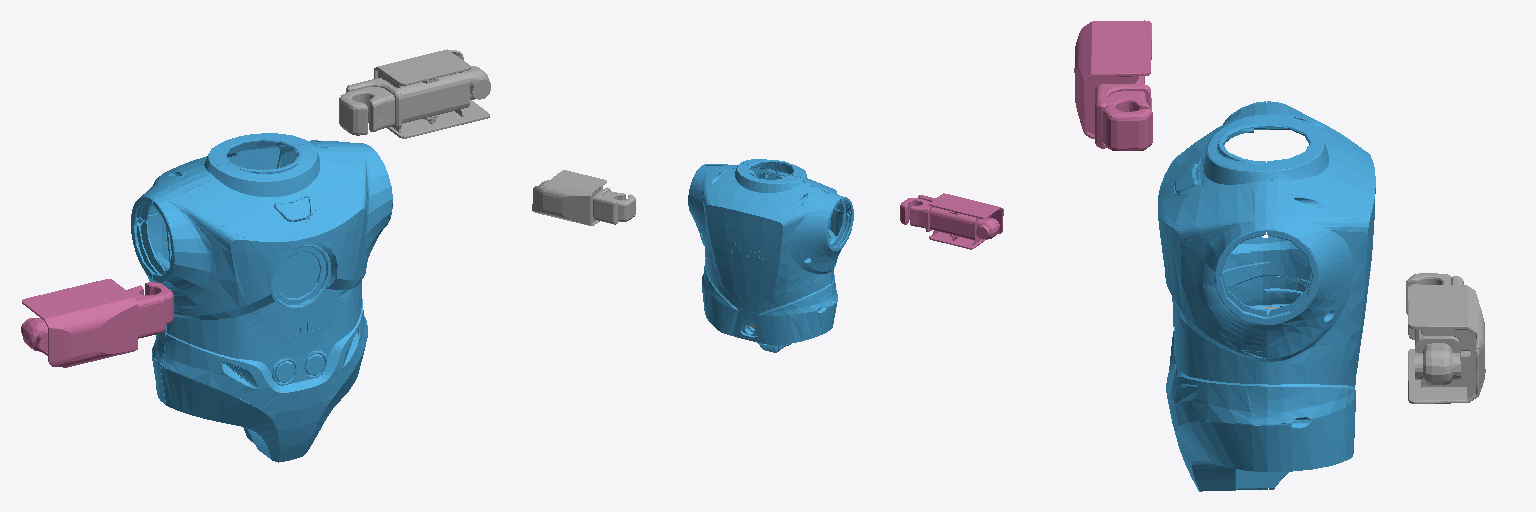
robot.urdf — H6_robot:
<?xml version="1.0" ?>
<robot name="H6_robot">
  <link name="base_link"/>

  <joint name="base_link_fixedjoint" type="fixed">
    <parent link="base_link"/>
    <child link="torso"/>
    <origin rpy="1.5757 0 0" xyz="0 0 0.35"/>
    <axis xyz="0 0 0"/>
  </joint>

  <link name="torso">
    <visual>
      <geometry>
        <mesh filename="meshes/Torso_0.10.stl" scale="0.1 0.1 0.1"/>
      </geometry>
      <origin rpy="0 0 0" xyz="0 0 0"/>
    </visual>
    <collision>
      <geometry>
        <mesh filename="meshes/Torso_0.10.stl" scale="0.1 0.1 0.1"/>
      </geometry>
      <origin rpy="0 0 0" xyz="0 0 0"/>
    </collision>
  </link>

  <joint name="neck_to_torso" type="revolute">
    <parent link="torso"/>
    <child link="neck"/>
    <origin rpy="0 0 0" xyz="0.0 0.045 0.006"/>
    <axis xyz="0 1.0 0"/> 
    <limit effort="1.329" lower="-1.5757" upper="1.5757" velocity="8.26797"/>
  </joint>

  <link name="neck">
     <visual>
      <geometry>
        <mesh filename="meshes/Neck_0.10.stl" scale="0.1 0.1 0.1"/>
      </geometry>
      <origin rpy="0 0 0" xyz="0 -0.045 -0.006"/>
    </visual>
    <collision>
      <geometry>
        <mesh filename="meshes/Neck_0.10.stl" scale="0.1 0.1 0.1"/>
      </geometry>
      <origin rpy="0 0 0" xyz="0 -0.045 -0.006"/>
    </collision>
  </link>

  <joint name="head_to_neck" type="revolute">
    <parent link="neck"/>
    <child link="head"/>
    <origin rpy="0 0 -3.1415" xyz="0.0 -0.0 0.0"/>
    <axis xyz="1.0 0 0"/>
    <limit effort="1.329" lower="-0.2626" upper="0.5252" velocity="8.26797"/>
  </joint>

  <link name="head">
     <visual>
      <geometry>
        <mesh filename="meshes/Head_0.10.stl" scale="0.1 0.1 0.1"/>
      </geometry>
      <origin rpy="0 0 0" xyz="0 -0.055 -0.01"/>
    </visual>
    <collision>
      <geometry>
        <mesh filename="meshes/Head_0.10.stl" scale="0.1 0.1 0.1"/>
      </geometry>
      <origin rpy="0 0 0" xyz="0 -0.055 -0.01"/>
    </collision>
  </link>
  
   <joint name="LShoulderPitch" type="revolute">
    <parent link="torso"/>
    <child link="LShoulder"/>
    <origin rpy="0 0 0" xyz="0.05 0.0 0.006"/>
    <axis xyz="1.0 0 0"/>
    <limit effort="1.329" lower="-3.1415" upper="1.0471" velocity="8.26797"/>
  </joint>

  <link name="LShoulder">
     <visual>
      <geometry>
        <mesh filename="meshes/LShoulderPitch_0.10.stl" scale="0.1 0.1 0.1"/>
      </geometry>
      <origin rpy="0 0 0" xyz="-0.05 0 -0.006"/>
    </visual>
    <collision>
      <geometry>
        <mesh filename="meshes/LShoulderPitch_0.10.stl" scale="0.1 0.1 0.1"/>
      </geometry>
      <origin rpy="0 0 0" xyz="-0.05 0 -0.006"/>
    </collision>
  </link>

  <joint name="LShoulderRoll" type="revolute">
    <parent link="LShoulder"/>
    <child link="LBicep"/>
    <origin rpy="0 0 0" xyz="0.04 0.0 0.0"/>
    <axis xyz="0 0 1.0"/>
    <limit effort="1.329" lower="-1.5757" upper="1.5757" velocity="8.26797"/>
  </joint>

  <link name="LBicep">
     <visual>
      <geometry>
        <mesh filename="meshes/LShoulderRoll_0.10.stl" scale="0.1 0.1 0.1"/>
      </geometry>
      <origin rpy="0 0 0" xyz="-0.09 0 -0.006"/>
    </visual>
    <collision>
      <geometry>
        <mesh filename="meshes/LShoulderRoll_0.10.stl" scale="0.1 0.1 0.1"/>
      </geometry>
      <origin rpy="0 0 0" xyz="-0.09 0 -0.006"/>
    </collision>
  </link>

  <joint name="LElbowYaw" type="revolute">
    <parent link="LBicep"/>
    <child link="LElbow"/>
    <origin rpy="0 -1.5757 0" xyz="0.075 0.0 0.0"/>
    <axis xyz="0 1.0 0"/>
    <limit effort="1.329" lower="-1.5757" upper="1.5757" velocity="8.26797"/>
  </joint>

  <link name="LElbow">
     <visual>
      <geometry>
        <mesh filename="meshes/LElbow_0.10.stl" scale="0.1 0.1 0.1"/>
      </geometry>
      <origin rpy="0 0 0" xyz="-0.0125 0.0 0.135"/>
    </visual>
    <collision>
      <geometry>
        <mesh filename="meshes/LElbow_0.10.stl" scale="0.1 0.1 0.1"/>
      </geometry>
      <origin rpy="0 0 0" xyz="-0.0125 0.0 0.135"/>
    </collision>
  </link>

  <joint name="LHipYaw" type="revolute">
    <parent link="torso"/>
    <child link="LHipYaw"/>
    <origin rpy="-1.5757 0.0 3.14159" xyz="0.035 -0.035 0.0"/>
    <axis xyz="0 0 1.0"/>
    <limit effort="1.329" lower="-1.5757" upper="1.5757" velocity="8.26797"/>
  </joint>

  <link name="LHipYaw">
     <visual>
      <geometry>
        <mesh filename="meshes/LHipYaw_0.10.stl" scale="0.1 0.1 0.1"/>
      </geometry>
      <origin rpy="0 0 0" xyz="0.0 0.0 0.0"/>
    </visual>
    <collision>
      <geometry>
        <mesh filename="meshes/LHipYaw_0.10.stl" scale="0.1 0.1 0.1"/>
      </geometry>
      <origin rpy="0 0 0" xyz="0.0 0.0 0.0"/>
    </collision>
  </link>
 
  <joint name="LHipRoll" type="revolute">
    <parent link="LHipYaw"/>
    <child link="LHipRoll"/>
    <origin rpy="1.5757 3.14159 0.0" xyz="0.0 0.0 0.09"/>
    <axis xyz="0 0 1.0"/>
    <limit effort="1.329" lower="-0.45" upper="1.5757" velocity="8.26797"/>
  </joint>

  <link name="LHipRoll">
     <visual>
      <geometry>
        <mesh filename="meshes/LHipRoll_0.10.stl" scale="0.1 0.1 0.1"/>
      </geometry>
      <origin rpy="0 0 0" xyz="-0.036 0.1255 0.0"/>
    </visual>
    <collision>
      <geometry>
        <mesh filename="meshes/LHipRoll_0.10.stl" scale="0.1 0.1 0.1"/>
      </geometry>
      <origin rpy="0 0 0" xyz="-0.036 0.1255 0.0"/>
    </collision>
  </link>

  <joint name="LHipPitch" type="revolute">
    <parent link="LHipRoll"/>
    <child link="LHipPitch"/>
    <origin rpy="0.0 0.0 0.0" xyz="0.0 -0.044 0.0"/>
    <axis xyz="1.0 0 0"/>
    <limit effort="1.329" lower="-1.5757" upper="1.5757" velocity="8.26797"/>
  </joint>

  <link name="LHipPitch">
     <visual>
      <geometry>
        <mesh filename="meshes/LHipPitch_0.10.stl" scale="0.1 0.1 0.1"/>
      </geometry>
      <origin rpy="0 0 0" xyz="-0.035 0.168 0.0"/>
    </visual>
    <collision>
      <geometry>
        <mesh filename="meshes/LHipPitch_0.10.stl" scale="0.1 0.1 0.1"/>
      </geometry>
      <origin rpy="0 0 0" xyz="-0.035 0.168 0.0"/>
    </collision>
  </link>

  <joint name="LKnee" type="revolute">
    <parent link="LHipPitch"/>
    <child link="LKnee"/>
    <origin rpy="0.0 0.0 0.0" xyz="0.0 -0.06 0.0"/>
    <axis xyz="1.0 0 0"/>
    <limit effort="1.329" lower="0.0" upper="1.5757" velocity="8.26797"/>
  </joint>

  <link name="LKnee">
     <visual>
      <geometry>
        <mesh filename="meshes/LKnee_0.10.stl" scale="0.1 0.1 0.1"/>
      </geometry>
      <origin rpy="0 0 0" xyz="-0.035 0.228 0.0"/>
    </visual>
    <collision>
      <geometry>
        <mesh filename="meshes/LKnee_0.10.stl" scale="0.1 0.1 0.1"/>
      </geometry>
      <origin rpy="0 0 0" xyz="-0.035 0.228 0.0"/>
    </collision>
  </link>


  <joint name="LAnklePitch" type="revolute">
    <parent link="LKnee"/>
    <child link="LAnklePitch"/>
    <origin rpy="0.0 0.0 0.0" xyz="0.0 -0.065 -0.008"/>
    <axis xyz="1.0 0 0"/>
    <limit effort="1.329" lower="-1.0" upper="1.0" velocity="8.26797"/>
  </joint>

  <link name="LAnklePitch">
     <visual>
      <geometry>
        <mesh filename="meshes/LAnklePitch_0.10.stl" scale="0.1 0.1 0.1"/>
      </geometry>
      <origin rpy="1.5757 0 1.5757" xyz="0.0 -0.014 0.0"/>
    </visual>
    <collision>
      <geometry>
        <mesh filename="meshes/LAnklePitch_0.10.stl" scale="0.1 0.1 0.1"/>
      </geometry>
      <origin rpy="1.5757 0 1.5757" xyz="0.0 -0.014 0.0"/>
    </collision>
  </link>
 
  <joint name="LAnkleRoll" type="revolute">
    <parent link="LAnklePitch"/>
    <child link="LAnkleRoll"/>
    <origin rpy="0.0 0.0 0.0" xyz="0.0 -0.035 0.0"/>
    <axis xyz="0 0 1.0"/>
    <limit effort="1.329" lower="-0.85" upper="0.45" velocity="8.26797"/>
  </joint>

  <link name="LAnkleRoll">
     <visual>
      <geometry>
        <mesh filename="meshes/LAnkleRoll_0.10.stl" scale="0.1 0.1 0.1"/>
      </geometry>
      <origin rpy="0.0 0 0.0" xyz="-0.035 0.33 0.008"/>
    </visual>
    <collision>
      <geometry>
        <mesh filename="meshes/LAnkleRoll_0.10.stl" scale="0.1 0.1 0.1"/>
      </geometry>
      <origin rpy="0 0 0" xyz="-0.035 0.33 0.008"/>
    </collision>
  </link>


  <joint name="RShoulderPitch" type="revolute">
    <parent link="torso"/>
    <child link="RShoulder"/>
    <origin rpy="0 0 0" xyz="-0.05 0.0 0.006"/>
    <axis xyz="1.0 0 0"/>
    <limit effort="1.329" lower="-3.1415" upper="1.0471" velocity="8.26797"/>
  </joint>

  <link name="RShoulder">
     <visual>
      <geometry>
        <mesh filename="meshes/RShoulderPitch_0.10.stl" scale="0.1 0.1 0.1"/>
      </geometry>
      <origin rpy="0 0 0" xyz="0.05 0 -0.006"/>
    </visual>
    <collision>
      <geometry>
        <mesh filename="meshes/RShoulderPitch_0.10.stl" scale="0.1 0.1 0.1"/>
      </geometry>
      <origin rpy="0 0 0" xyz="0.05 0 -0.006"/>
    </collision>
  </link>

  <joint name="RShoulderRoll" type="revolute">
    <parent link="RShoulder"/>
    <child link="RBicep"/>
    <origin rpy="0 0 0" xyz="-0.04 0.0 0.0"/>
    <axis xyz="0 0 1.0"/>
    <limit effort="1.329" lower="-1.5757" upper="1.5757" velocity="8.26797"/>
  </joint>

  <link name="RBicep">
     <visual>
      <geometry>
        <mesh filename="meshes/RShoulderRoll_0.10.stl" scale="0.1 0.1 0.1"/>
      </geometry>
      <origin rpy="0 0 0" xyz="0.09 0 -0.006"/>
    </visual>
    <collision>
      <geometry>
        <mesh filename="meshes/RShoulderRoll_0.10.stl" scale="0.1 0.1 0.1"/>
      </geometry>
      <origin rpy="0 0 0" xyz="0.09 0 -0.006"/>
    </collision>
  </link>

 <joint name="RElbowYaw" type="revolute">
    <parent link="RBicep"/>
    <child link="RElbow"/>
    <origin rpy="0 -1.575 3.14159" xyz="-0.075 0.0 0.0"/>
    <axis xyz="0 1.0 0"/>
    <limit effort="1.329" lower="-1.5757" upper="1.5757" velocity="8.26797"/>
  </joint>

  <link name="RElbow">
     <visual>
      <geometry>
        <mesh filename="meshes/RElbow_0.10.stl" scale="0.1 0.1 0.1"/>
      </geometry>
      <origin rpy="0 0 0" xyz="-0.0125 0.0 0.135"/>
    </visual>
    <collision>
      <geometry>
        <mesh filename="meshes/RElbow_0.10.stl" scale="0.1 0.1 0.1"/>
      </geometry>
      <origin rpy="0 0 0" xyz="-0.0125 0.0 0.135"/>
    </collision>
  </link> 

  <joint name="RHipYaw" type="revolute">
    <parent link="torso"/>
    <child link="RHipYaw"/>
    <origin rpy="-1.5757 0.0 3.14159" xyz="-0.035 -0.035 0.0"/>
    <axis xyz="0 0 1.0"/>
    <limit effort="1.329" lower="-1.5757" upper="1.5757" velocity="8.26797"/>
  </joint>

  <link name="RHipYaw">
     <visual>
      <geometry>
        <mesh filename="meshes/RHipYaw_0.10.stl" scale="0.1 0.1 0.1"/>
      </geometry>
      <origin rpy="0 0 0" xyz="0.0 0.0 0.0"/>
    </visual>
    <collision>
      <geometry>
        <mesh filename="meshes/RHipYaw_0.10.stl" scale="0.1 0.1 0.1"/>
      </geometry>
      <origin rpy="0 0 0" xyz="0.0 0.0 0.0"/>
    </collision>
  </link>

  <joint name="RHipRoll" type="revolute">
    <parent link="RHipYaw"/>
    <child link="RHipRoll"/>
    <origin rpy="1.5757 3.14159 0.0" xyz="0.0 0.0 0.09"/>
    <axis xyz="0 0 1.0"/>
    <limit effort="1.329" lower="-1.5757" upper="0.45" velocity="8.26797"/>
  </joint>

  <link name="RHipRoll">
     <visual>
      <geometry>
        <mesh filename="meshes/RHipRoll_0.10.stl" scale="0.1 0.1 0.1"/>
      </geometry>
      <origin rpy="0 0 0" xyz="0.036 0.1255 0.0"/>
    </visual>
    <collision>
      <geometry>
        <mesh filename="meshes/RHipRoll_0.10.stl" scale="0.1 0.1 0.1"/>
      </geometry>
      <origin rpy="0 0 0" xyz="-0.036 0.1255 0.0"/>
    </collision>
  </link>
 
  <joint name="RHipPitch" type="revolute">
    <parent link="RHipRoll"/>
    <child link="RHipPitch"/>
    <origin rpy="0.0 0.0 0.0" xyz="0.0 -0.044 0.0"/>
    <axis xyz="1.0 0 0"/>
    <limit effort="1.329" lower="-1.5757" upper="1.5757" velocity="8.26797"/>
  </joint>

  <link name="RHipPitch">
     <visual>
      <geometry>
        <mesh filename="meshes/RHipPitch_0.10.stl" scale="0.1 0.1 0.1"/>
      </geometry>
      <origin rpy="0 0 0" xyz="0.035 0.168 0.0"/>
    </visual>
    <collision>
      <geometry>
        <mesh filename="meshes/RHipPitch_0.10.stl" scale="0.1 0.1 0.1"/>
      </geometry>
      <origin rpy="0 0 0" xyz="0.035 0.168 0.0"/>
    </collision>
  </link>

  <joint name="RKnee" type="revolute">
    <parent link="RHipPitch"/>
    <child link="RKnee"/>
    <origin rpy="0.0 0.0 0.0" xyz="0.0 -0.06 0.0"/>
    <axis xyz="1.0 0 0"/>
    <limit effort="1.329" lower="0.0" upper="1.5757" velocity="8.26797"/>
  </joint>

  <link name="RKnee">
     <visual>
      <geometry>
        <mesh filename="meshes/RKnee_0.10.stl" scale="0.1 0.1 0.1"/>
      </geometry>
      <origin rpy="0 0 0" xyz="0.035 0.228 0.0"/>
    </visual>
    <collision>
      <geometry>
        <mesh filename="meshes/RKnee_0.10.stl" scale="0.1 0.1 0.1"/>
      </geometry>
      <origin rpy="0 0 0" xyz="0.035 0.228 0.0"/>
    </collision>
  </link>

  <joint name="RAnklePitch" type="revolute">
    <parent link="RKnee"/>
    <child link="RAnklePitch"/>
    <origin rpy="0.0 0.0 0.0" xyz="0.0 -0.065 -0.008"/>
    <axis xyz="1.0 0 0"/>
    <limit effort="1.329" lower="-1.0" upper="1.0" velocity="8.26797"/>
  </joint>

  <link name="RAnklePitch">
     <visual>
      <geometry>
        <mesh filename="meshes/RAnklePitch_0.10.stl" scale="0.1 0.1 0.1"/>
      </geometry>
      <origin rpy="1.5757 0 1.5757" xyz="0.0 -0.014 0.0"/>
    </visual>
    <collision>
      <geometry>
        <mesh filename="meshes/RAnklePitch_0.10.stl" scale="0.1 0.1 0.1"/>
      </geometry>
      <origin rpy="1.5757 0 1.5757" xyz="0.0 -0.014 0.0"/>
    </collision>
  </link>
 
  <joint name="RAnkleRoll" type="revolute">
    <parent link="RAnklePitch"/>
    <child link="RAnkleRoll"/>
    <origin rpy="0.0 0.0 0.0" xyz="0.0 -0.035 0.0"/>
    <axis xyz="0 0 1.0"/>
    <limit effort="1.329" lower="-0.85" upper="0.45" velocity="8.26797"/>
  </joint>

  <link name="RAnkleRoll">
     <visual>
      <geometry>
        <mesh filename="meshes/RAnkleRoll_0.10.stl" scale="0.1 0.1 0.1"/>
      </geometry>
      <origin rpy="0.0 0 0.0" xyz="0.035 0.33 0.008"/>
    </visual>
    <collision>
      <geometry>
        <mesh filename="meshes/RAnkleRoll_0.10.stl" scale="0.1 0.1 0.1"/>
      </geometry>
      <origin rpy="0 0 0" xyz="0.035 0.33 0.008"/>
    </collision>
  </link>  

</robot>

--- Render facts (derived) ---
Views: 3 orthographic renders of the robot side by side, from view 1: azimuth 30°, elevation 25°; view 2: azimuth 150°, elevation 25°; view 3: azimuth 270°, elevation 25°.
Robot: H6_robot — 22 links, 21 joints (20 revolute, 1 fixed); root link base_link; default pose: every joint at zero.
Links seen in each view (by area): view 1: torso, LElbow, RElbow; view 2: torso, RElbow, LElbow; view 3: torso, RElbow, LElbow.
Link boxes in pixels (x1,y1,x2,y2): torso: (131,133,392,462); LElbow: (21,279,173,367); RElbow: (339,49,490,138); torso: (688,159,853,352); RElbow: (532,170,635,225); LElbow: (900,193,1003,249); torso: (1158,101,1375,491); RElbow: (1406,273,1485,403); LElbow: (1074,20,1152,150).
Size in the robot's own frame: 35.9 by 17.98 by 16.54 metres.
4 mesh visuals loaded from 21 distinct referenced files (4 binary STL); not drawn: 17 (reference not matched to a file when rendering).